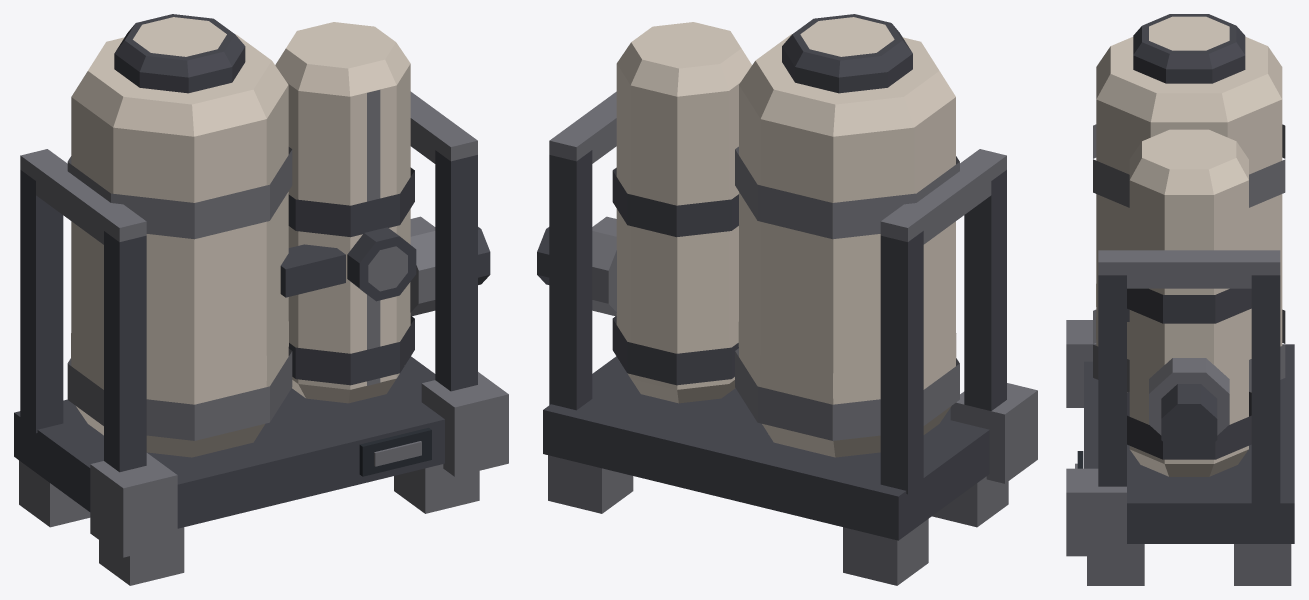
File: tank_stationary.glb
3 renders of one model, left to right at view 1: azimuth 30°, elevation 25°; view 2: azimuth 150°, elevation 25°; view 3: azimuth 270°, elevation 25°, orthographic. The views are drawn at different scales.
Visible parts, largest first — view 1: Support_Frame.007, Main_Vessel.007, Auxiliary_Vessel.007, Main_Strap.014, Main_Strap.015, Fill_Cap.007, Lower_Colour_Band.007, Auxiliary_Strap.015, Auxiliary_Strap.014, Anchor_Foot.014, Tap_Bridge.007, Cap_Inset.007 (+8 smaller); view 2: Support_Frame.007, Main_Vessel.007, Auxiliary_Vessel.007, Main_Strap.014, Main_Strap.015, Fill_Cap.007, Lower_Colour_Band.007, Auxiliary_Strap.015, Auxiliary_Strap.014, Anchor_Foot.013, Anchor_Foot.015, Cap_Inset.007 (+2 smaller); view 3: Support_Frame.007, Auxiliary_Vessel.007, Main_Vessel.007, Fill_Cap.007, Pipe_Outlet.003, Auxiliary_Strap.015, Pipe_Collar.003, Main_Strap.015, Auxiliary_Strap.014, Anchor_Foot.015, Cap_Inset.007, Anchor_Foot.014 (+2 smaller).
Boxes of the visible parts, left/top/right/bottom form: Support_Frame.007: left=14, top=91, right=508, bottom=557; Main_Vessel.007: left=71, top=34, right=288, bottom=457; Auxiliary_Vessel.007: left=275, top=22, right=410, bottom=403; Main_Strap.014: left=67, top=348, right=292, bottom=440; Main_Strap.015: left=67, top=147, right=292, bottom=239; Fill_Cap.007: left=114, top=14, right=245, bottom=93; Lower_Colour_Band.007: left=71, top=321, right=288, bottom=398; Auxiliary_Strap.015: left=288, top=167, right=414, bottom=237; Auxiliary_Strap.014: left=288, top=316, right=414, bottom=385; Anchor_Foot.014: left=394, top=464, right=479, bottom=513; Tap_Bridge.007: left=280, top=244, right=345, bottom=297; Cap_Inset.007: left=133, top=17, right=226, bottom=56; Support_Frame.007: left=543, top=91, right=1037, bottom=540; Main_Vessel.007: left=739, top=34, right=955, bottom=457; Auxiliary_Vessel.007: left=616, top=22, right=751, bottom=403; Main_Strap.014: left=735, top=348, right=959, bottom=440; Main_Strap.015: left=735, top=146, right=959, bottom=239; Fill_Cap.007: left=782, top=14, right=912, bottom=93; Lower_Colour_Band.007: left=738, top=321, right=956, bottom=398; Auxiliary_Strap.015: left=612, top=167, right=738, bottom=237; Auxiliary_Strap.014: left=612, top=316, right=738, bottom=385; Anchor_Foot.013: left=843, top=519, right=928, bottom=585; Anchor_Foot.015: left=548, top=455, right=633, bottom=513; Cap_Inset.007: left=800, top=17, right=894, bottom=56; Support_Frame.007: left=1066, top=250, right=1294, bottom=556; Auxiliary_Vessel.007: left=1129, top=129, right=1248, bottom=476; Main_Vessel.007: left=1096, top=36, right=1282, bottom=392; Fill_Cap.007: left=1133, top=14, right=1245, bottom=83; Pipe_Outlet.003: left=1161, top=384, right=1217, bottom=454; Auxiliary_Strap.015: left=1127, top=288, right=1251, bottom=323; Pipe_Collar.003: left=1149, top=358, right=1229, bottom=435; Main_Strap.015: left=1093, top=124, right=1285, bottom=207; Auxiliary_Strap.014: left=1127, top=392, right=1251, bottom=459; Anchor_Foot.015: left=1234, top=544, right=1291, bottom=585; Cap_Inset.007: left=1149, top=16, right=1229, bottom=50; Anchor_Foot.014: left=1087, top=544, right=1144, bottom=585.
Bounding box in the file's own units: 1.39 × 1.53 × 0.715.
